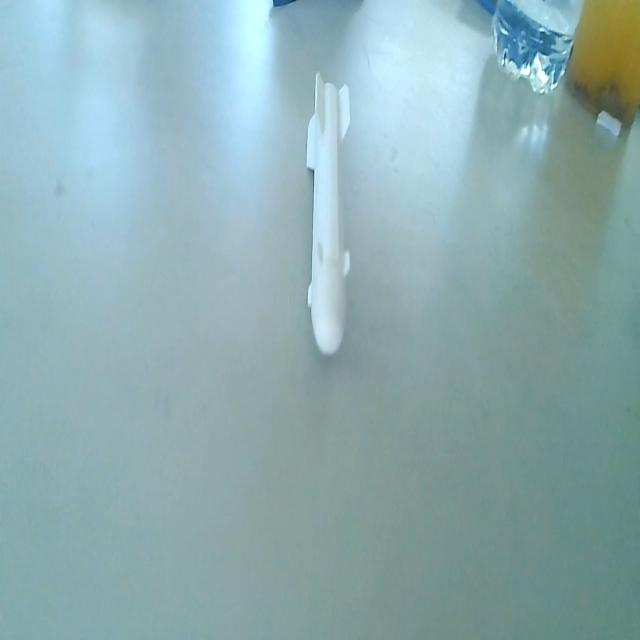Rocket: (304, 74, 355, 362)
